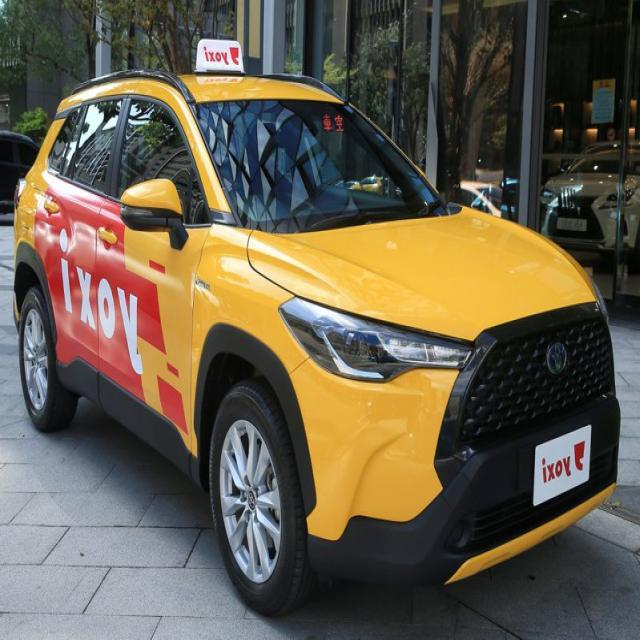taxi: (5, 30, 631, 633)
